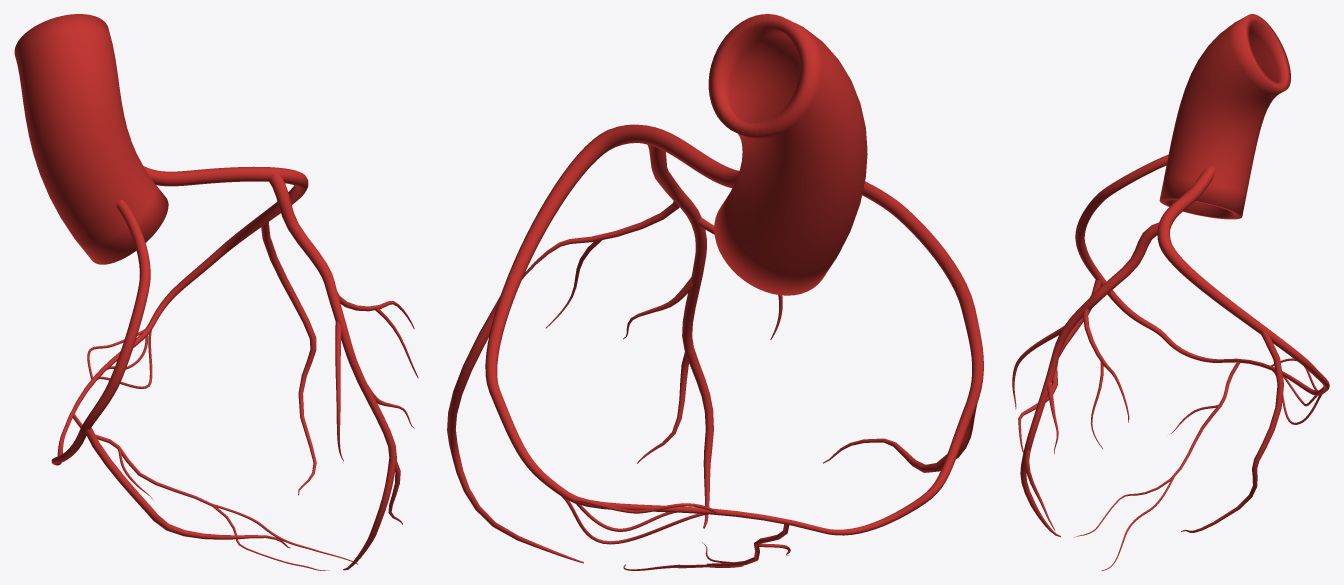
File: coheart.gltf
The picture shows the model from 3 angles, left to right: view 1: azimuth 30°, elevation 25°; view 2: azimuth 150°, elevation 25°; view 3: azimuth 270°, elevation 25°; orthographic projection. The views are drawn at different scales.
Parts seen in each view (by area): view 1: longBack; view 2: longBack; view 3: longBack.
Boxes of the visible parts, box(x1,y1,x2,y2) form: longBack: box(14, 14, 418, 570); longBack: box(447, 14, 983, 570); longBack: box(1012, 14, 1329, 570).
Size of the model in its own units: 1.98 by 2.93 by 1.81.
